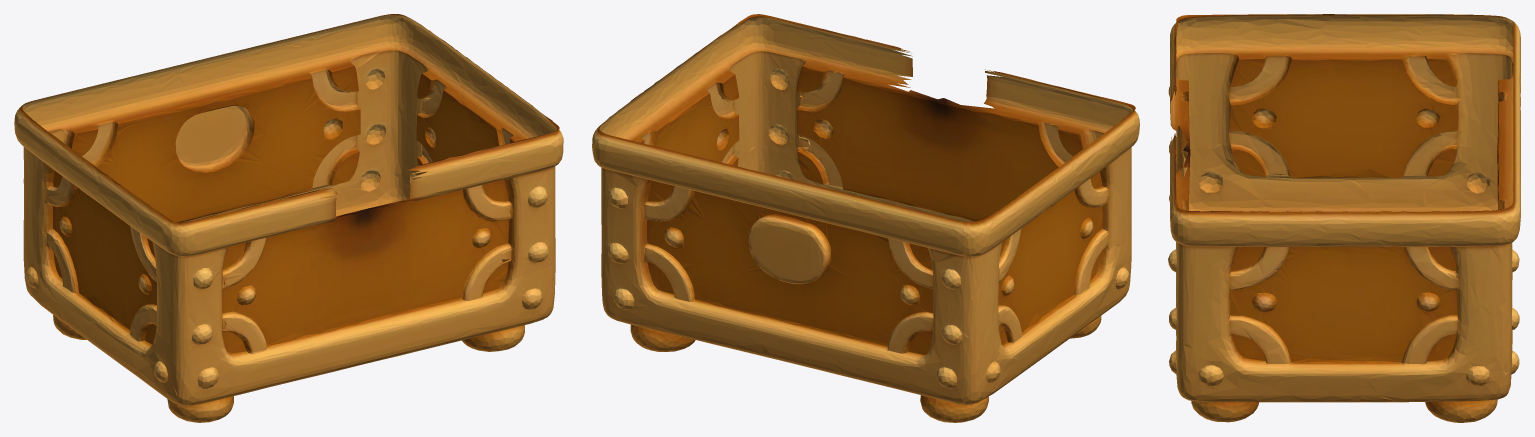
Rendered from body.glb.
The picture shows the model from 3 angles, left to right: view 1: azimuth 30°, elevation 25°; view 2: azimuth 150°, elevation 25°; view 3: azimuth 270°, elevation 25°; orthographic projection. The views are drawn at different scales.
Visible parts, largest first — view 1: source_surface_0; view 2: source_surface_0; view 3: source_surface_0.
Boxes of the visible parts, box(x1,y1,x2,y2) form: source_surface_0: box(14, 14, 563, 422); source_surface_0: box(592, 14, 1139, 422); source_surface_0: box(1168, 14, 1520, 422).
Size of the model in its own units: 0.12 by 0.0631 by 0.0882.
1 material, 1 textured.
